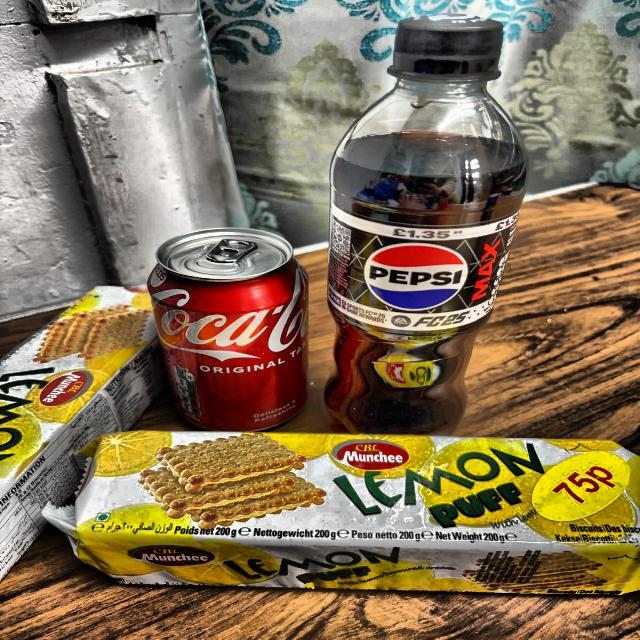coke-can: (149, 228, 336, 432)
lemon puff: (64, 418, 640, 606), (8, 280, 157, 580)
pepsi-bottle: (323, 6, 536, 446)
